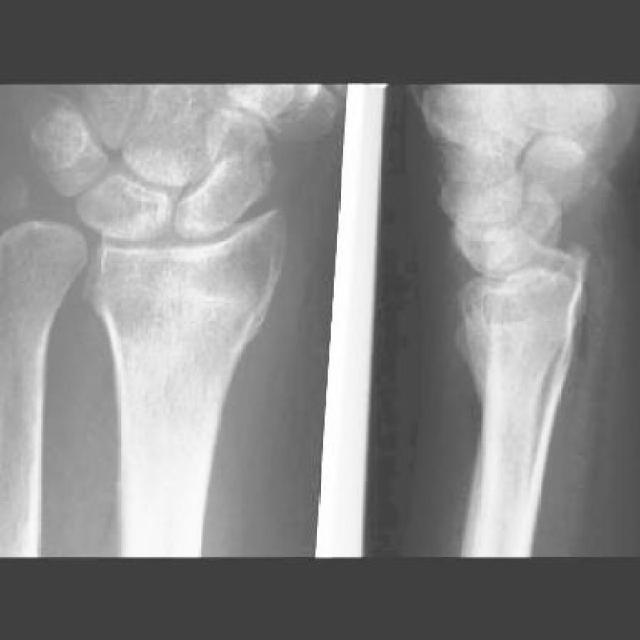Fracture: (82, 263, 281, 340), (448, 311, 581, 373)
